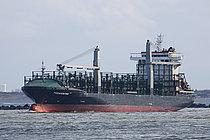Ship: (19, 33, 199, 116)
